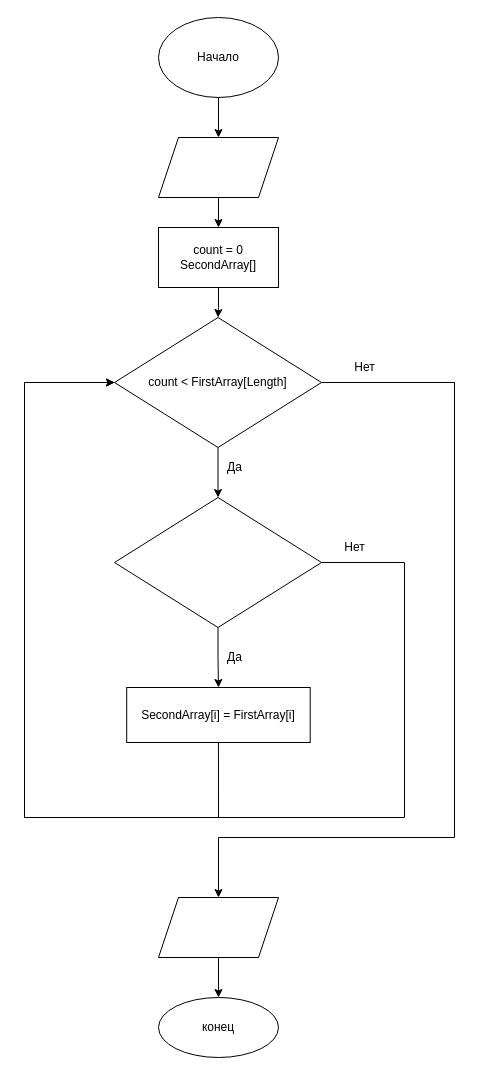
Image size: 480x1075. Some labels were removed from this diagram. Here are the shapes that lost their labels. From the top down, the box of each, then its label:
(158, 136, 278, 198): FirstArray[]
(114, 496, 322, 628): FirstArray[i](Length) <=3
(158, 896, 278, 958): SecondArray[i]
